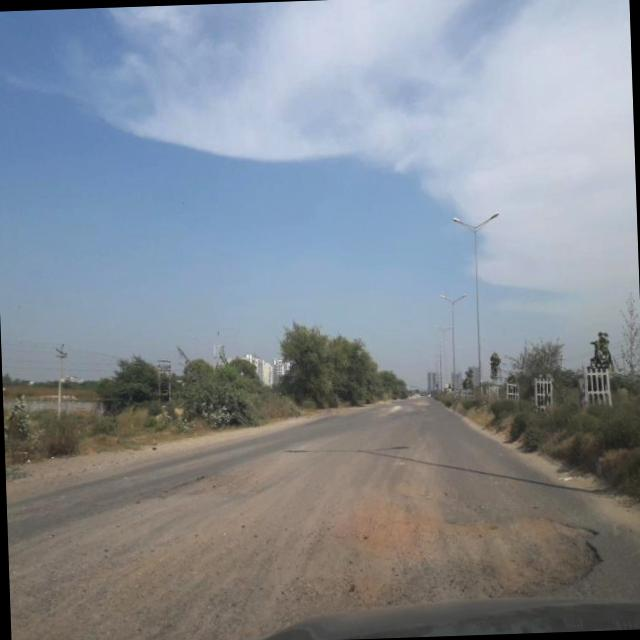pothole: (94, 494, 632, 618), (390, 474, 454, 506)
